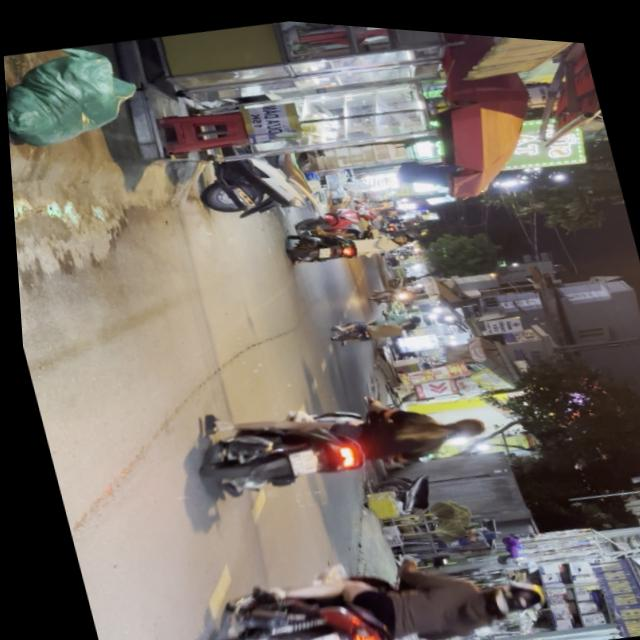helmet: (471, 567, 541, 617)
licenseplate: (181, 362, 499, 514), (179, 521, 551, 640)
motorcyclist: (436, 406, 485, 440)
nohelmet: (284, 445, 315, 474), (301, 628, 337, 640)
